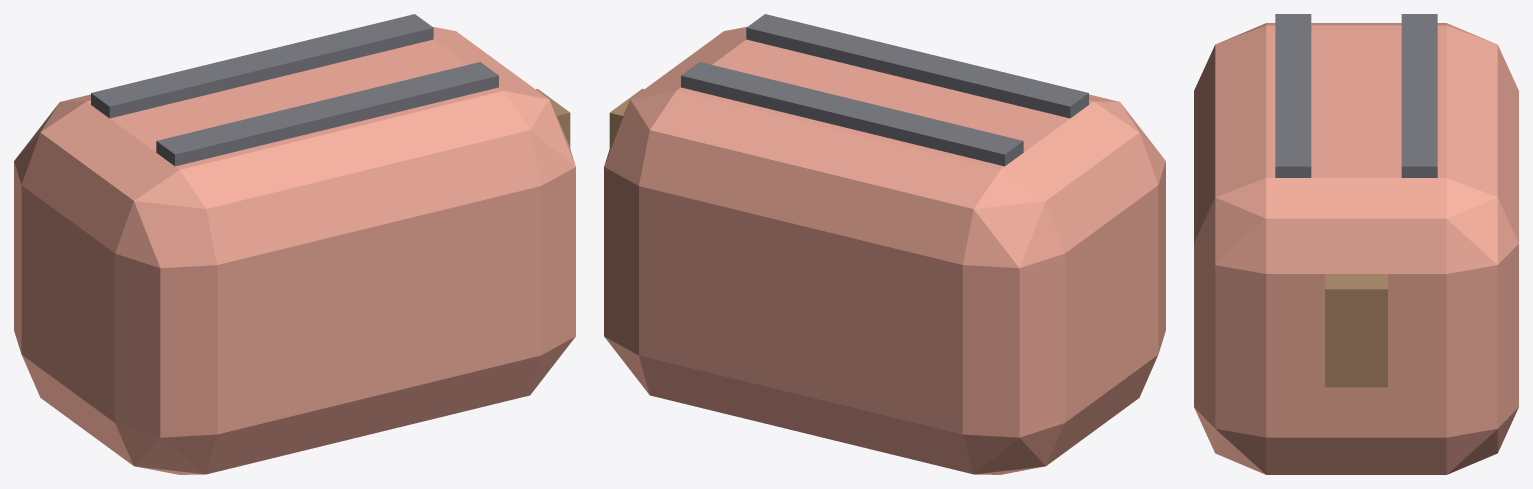
File: cozy-home-interiors-toaster-ba4c8d1d.glb
The picture shows the model from 3 angles, left to right: view 1: azimuth 30°, elevation 25°; view 2: azimuth 150°, elevation 25°; view 3: azimuth 270°, elevation 25°; orthographic projection. The views are drawn at different scales.
Visible parts, largest first — view 1: toaster; view 2: toaster; view 3: toaster.
Boxes of the visible parts, bbox=[...] form: toaster: bbox=[14, 14, 575, 474]; toaster: bbox=[604, 14, 1165, 474]; toaster: bbox=[1194, 14, 1518, 474].
Size of the model in its own units: 0.3 by 0.187 by 0.18.
